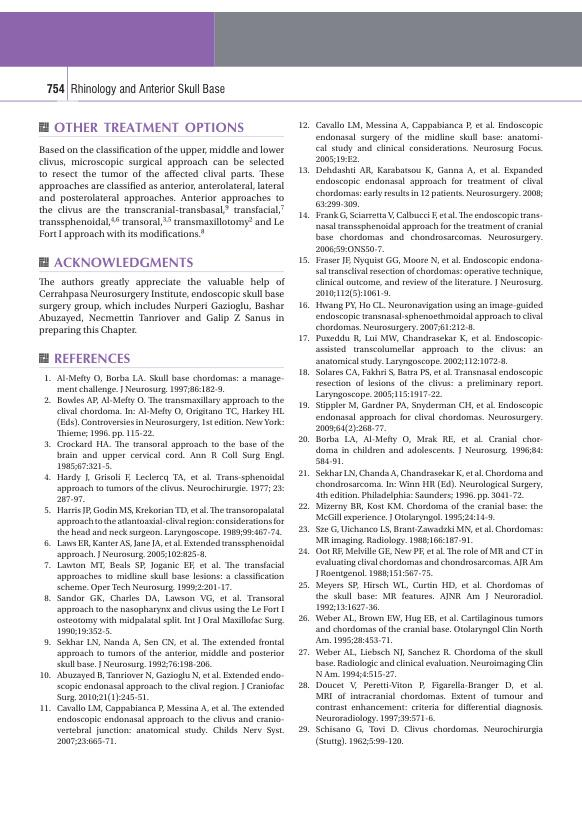header: (70, 82, 226, 97)
list: (297, 119, 545, 747), (42, 372, 287, 747)
section-heading: (53, 120, 245, 133), (52, 255, 194, 268), (54, 352, 131, 365)
text: (38, 145, 287, 241), (37, 276, 286, 337)
